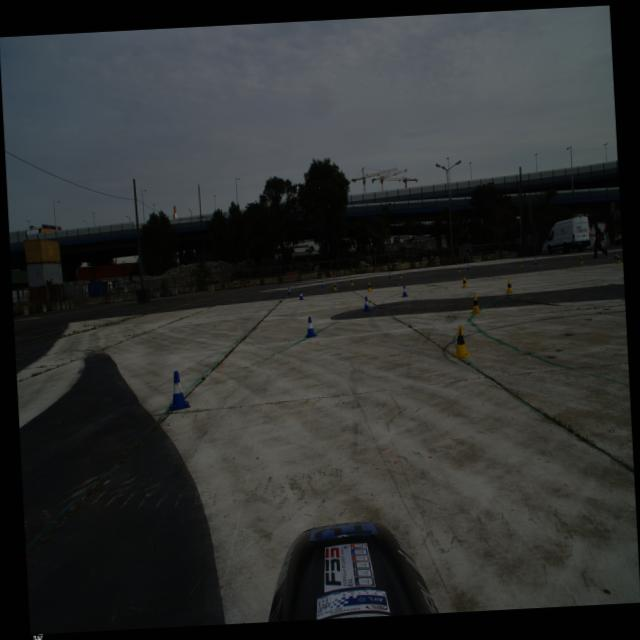blue_cone: (167, 371, 190, 412), (304, 316, 318, 338), (362, 296, 372, 312), (401, 285, 408, 297), (298, 290, 304, 300), (288, 287, 292, 295), (466, 264, 471, 270), (614, 252, 618, 259), (534, 258, 538, 264), (388, 272, 392, 278), (321, 282, 324, 288)
yellow_cone: (451, 325, 472, 358), (469, 294, 482, 314), (505, 280, 514, 294), (462, 277, 468, 288), (616, 255, 622, 264), (367, 282, 372, 292), (578, 256, 584, 264), (333, 282, 338, 290), (350, 278, 354, 286), (519, 261, 523, 268), (457, 266, 461, 272), (400, 272, 402, 278)
